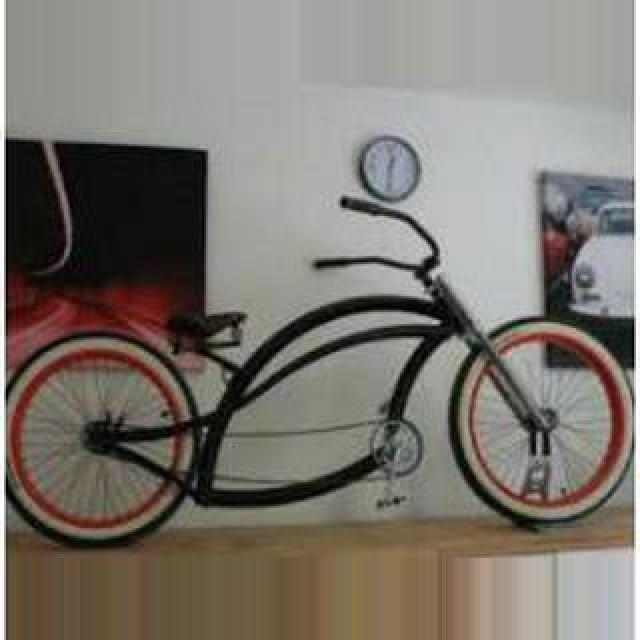Person: (8, 194, 632, 536)
